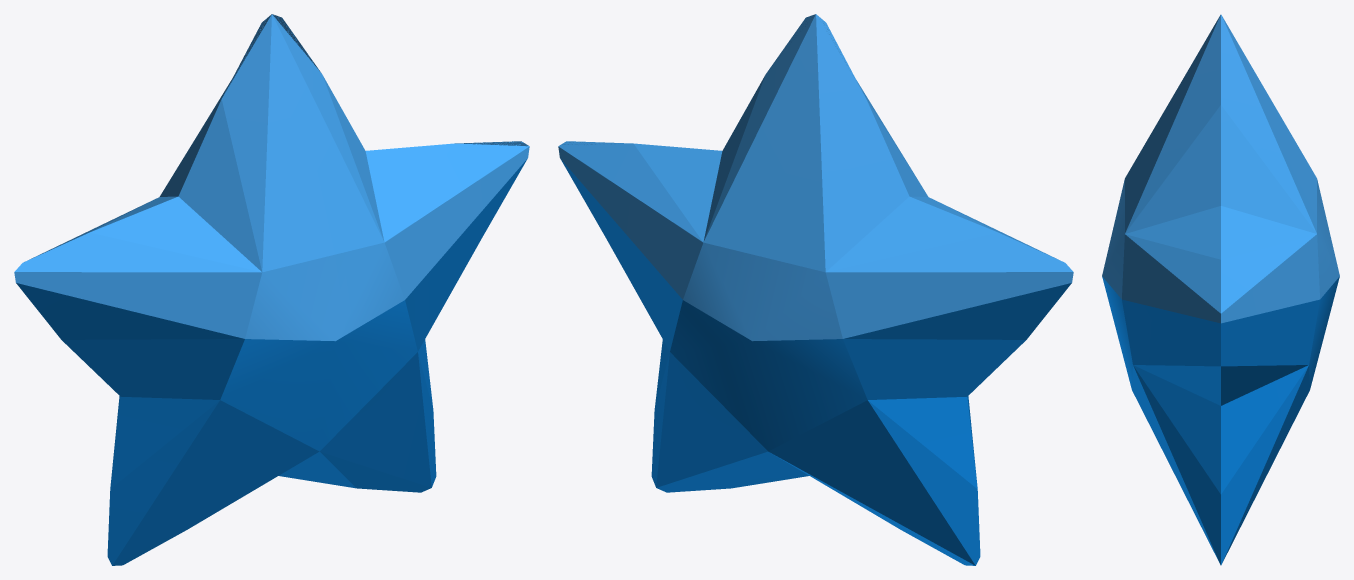
File: item_star_003.fbx
3 renders of one model, left to right at view 1: azimuth 30°, elevation 25°; view 2: azimuth 150°, elevation 25°; view 3: azimuth 270°, elevation 25°, orthographic. The views are drawn at different scales.
Visible parts, largest first — view 1: item_star_003; view 2: item_star_003; view 3: item_star_003.
Part boxes in pixels (box(x1,y1,x2,y2)): item_star_003: box(14, 14, 529, 565); item_star_003: box(558, 14, 1073, 565); item_star_003: box(1102, 14, 1339, 565).
Bounding box in the file's own units: 99.66 × 95.16 × 42.66.
